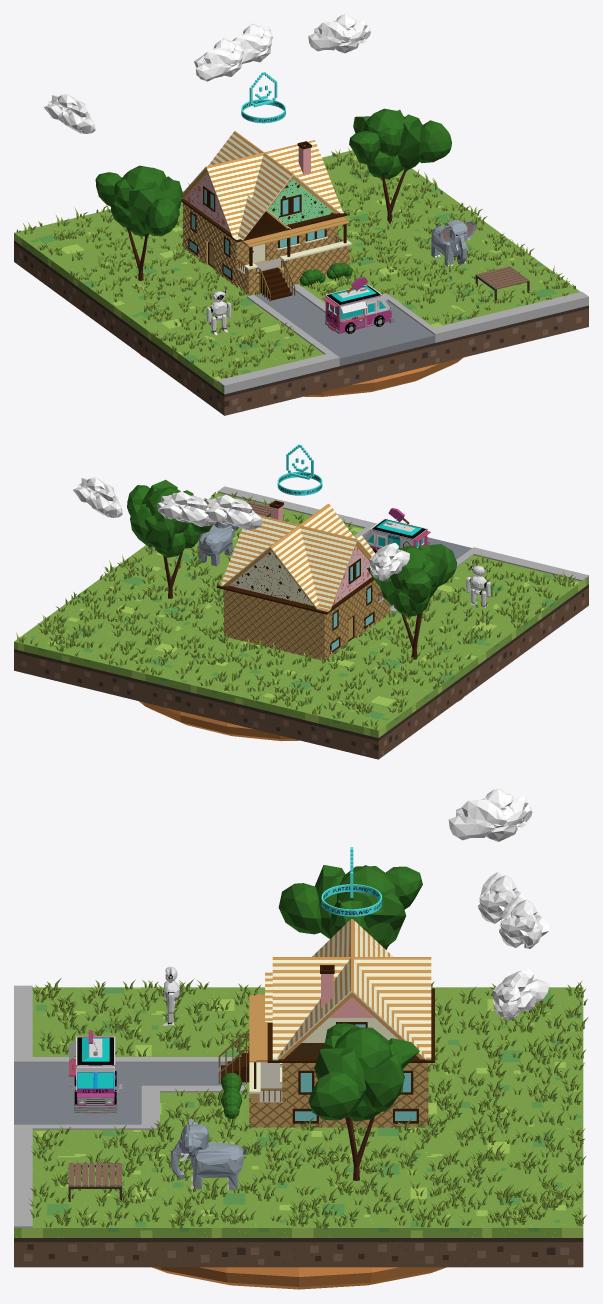
3 renders of one model, top to bottom at view 1: azimuth 30°, elevation 25°; view 2: azimuth 150°, elevation 25°; view 3: azimuth 270°, elevation 25°, orthographic. The views are drawn at different scales.
Parts seen in each view (by area): view 1: Cube.006, Cube.1102, Circle.012_Grass_0.192, Cube.007, tree, tree.001, VEHICLES_ICE_CREAM_TRUCK, ANIMAL_ELEFANTE, UNDERGROUND_PIZZA, TYPE_PREMIUM, Cube.009, OBJRANDOM_PLATZEEBOT; view 2: Cube.006, Cube.1102, Circle.012_Grass_0.192, Cube.007, tree.001, tree, VEHICLES_ICE_CREAM_TRUCK, UNDERGROUND_PIZZA, ANIMAL_ELEFANTE, TYPE_PREMIUM, OBJRANDOM_PLATZEEBOT; view 3: Cube.006, Circle.012_Grass_0.192, Cube.1102, tree, Cube.007, tree.001, UNDERGROUND_PIZZA, VEHICLES_ICE_CREAM_TRUCK, ANIMAL_ELEFANTE, Cube.009, TYPE_PREMIUM, OBJRANDOM_PLATZEEBOT.
Part boxes in pixels (x1,y1,x2,y2): Cube.006: (14, 150, 588, 415); Cube.1102: (181, 131, 351, 301); Circle.012_Grass_0.192: (16, 148, 575, 378); Cube.007: (44, 14, 370, 133); tree: (349, 108, 451, 223); tree.001: (95, 165, 182, 280); VEHICLES_ICE_CREAM_TRUCK: (322, 276, 394, 333); ANIMAL_ELEFANTE: (431, 220, 476, 267); UNDERGROUND_PIZZA: (139, 353, 462, 396); TYPE_PREMIUM: (241, 72, 285, 123); Cube.009: (475, 266, 529, 300); OBJRANDOM_PLATZEEBOT: (206, 287, 231, 335); Cube.006: (14, 486, 588, 759); Cube.1102: (216, 500, 390, 660); Circle.012_Grass_0.192: (16, 491, 575, 729); Cube.007: (73, 477, 409, 581); tree.001: (367, 544, 457, 659); tree: (127, 479, 212, 598); VEHICLES_ICE_CREAM_TRUCK: (364, 508, 430, 552); UNDERGROUND_PIZZA: (139, 697, 463, 741); ANIMAL_ELEFANTE: (198, 521, 238, 566); TYPE_PREMIUM: (277, 444, 322, 495); OBJRANDOM_PLATZEEBOT: (466, 561, 490, 608); Cube.006: (14, 985, 583, 1267); Circle.012_Grass_0.192: (29, 978, 588, 1229); Cube.1102: (218, 919, 434, 1127); tree: (308, 1023, 419, 1180); Cube.007: (448, 788, 549, 1020); tree.001: (278, 865, 422, 949); UNDERGROUND_PIZZA: (152, 1267, 446, 1289); VEHICLES_ICE_CREAM_TRUCK: (69, 1030, 122, 1113); ANIMAL_ELEFANTE: (170, 1118, 247, 1190); Cube.009: (68, 1162, 121, 1201); TYPE_PREMIUM: (321, 847, 381, 916); OBJRANDOM_PLATZEEBOT: (162, 966, 179, 1025).
Size of the model in its own units: 4071 by 2512 by 4040.
Materials: 47 (5 with a texture image).
